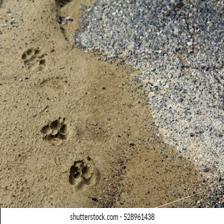coyote: (37, 115, 72, 144)
